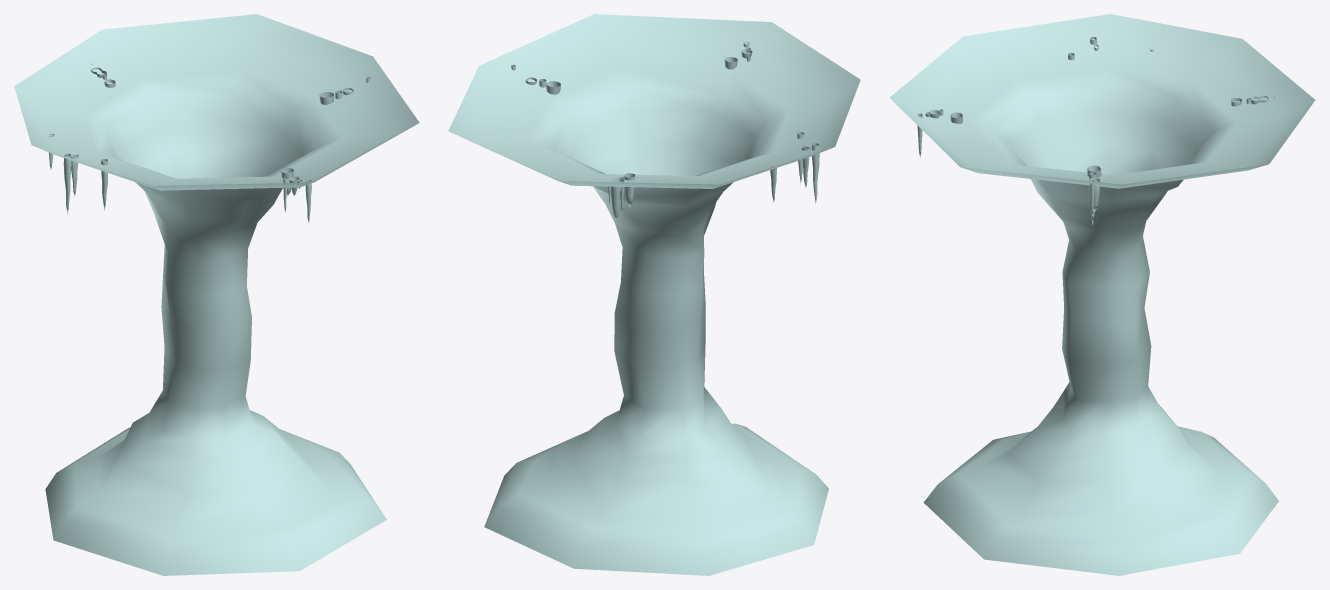
The model's file is env_ice_pillar_thick.fbx.
3 renders of one model, left to right at view 1: azimuth 30°, elevation 25°; view 2: azimuth 150°, elevation 25°; view 3: azimuth 270°, elevation 25°, orthographic.
Parts seen in each view (by area): view 1: env_ice_pillar_thick_geo; view 2: env_ice_pillar_thick_geo; view 3: env_ice_pillar_thick_geo.
Part boxes in pixels (x1,y1,x2,y2): env_ice_pillar_thick_geo: (14,14,419,575); env_ice_pillar_thick_geo: (448,14,860,575); env_ice_pillar_thick_geo: (889,14,1315,575).
Size of the model in its own units: 1036 by 1148 by 1095.
